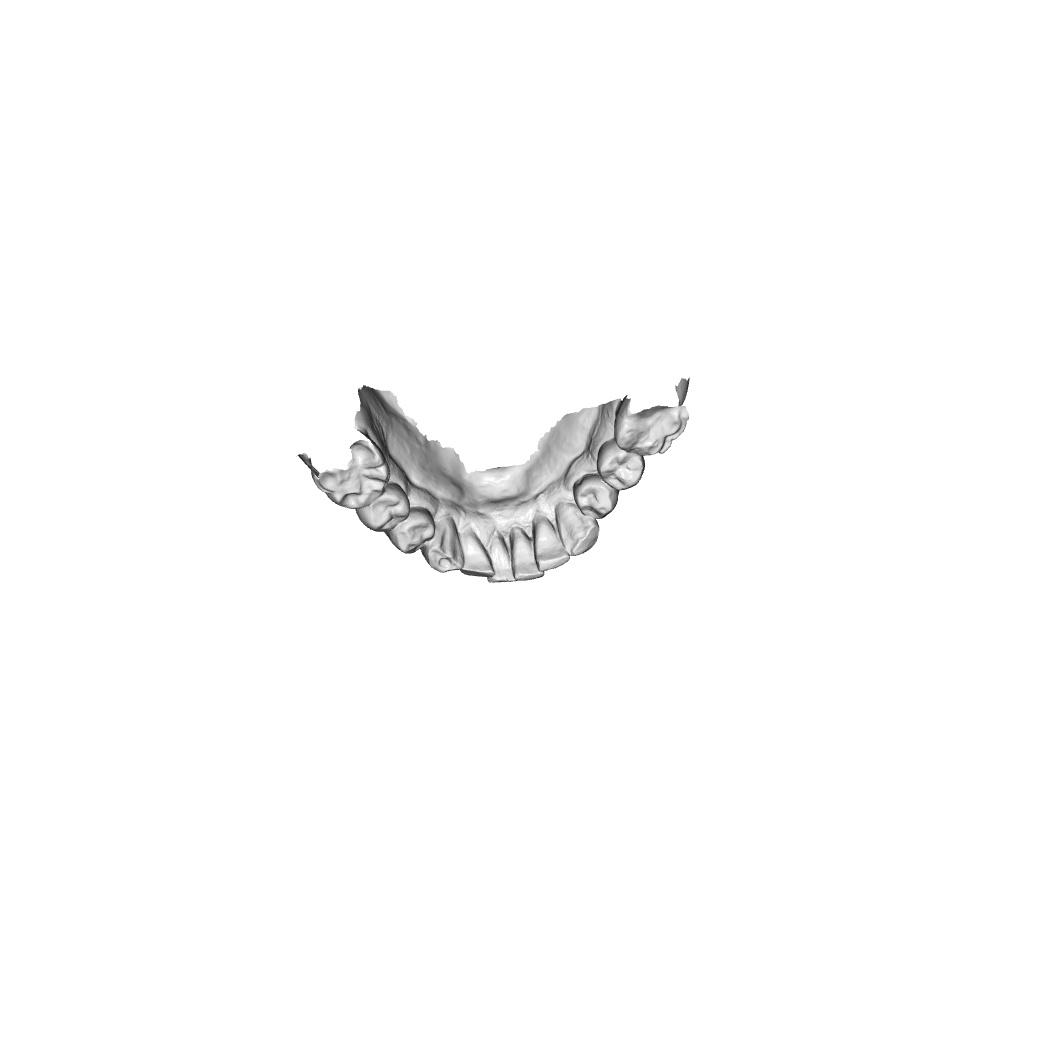canine: (420, 515, 465, 575), (554, 500, 600, 557)
incisor: (531, 512, 570, 573), (509, 525, 545, 582), (459, 528, 495, 579), (486, 533, 517, 584)
molar: (310, 439, 392, 511), (613, 394, 690, 457)
premolar: (355, 481, 412, 534), (384, 504, 437, 556), (596, 439, 647, 492), (573, 472, 619, 521)
